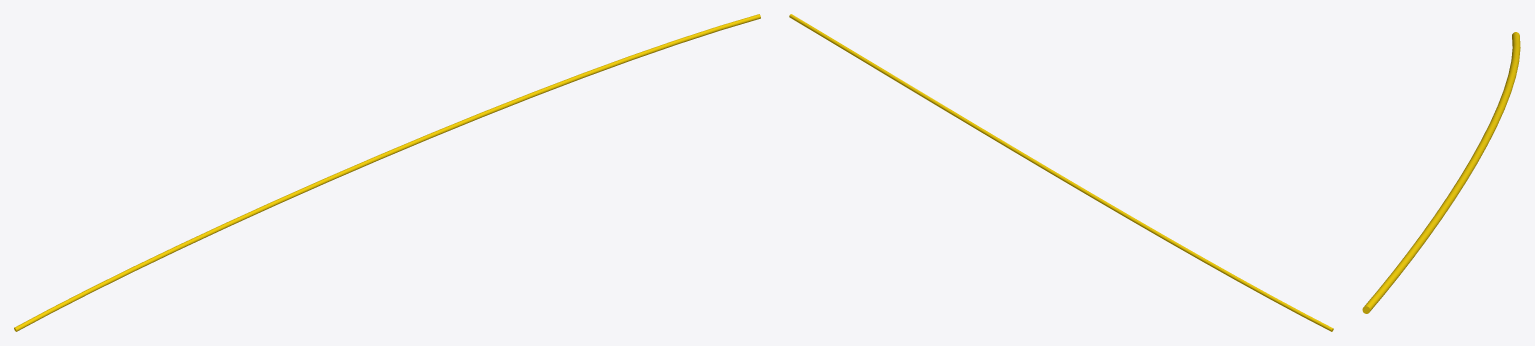
File: Event_420107950_track_77.fbx
3 views of the same model, side by side, from view 1: azimuth 30°, elevation 25°; view 2: azimuth 150°, elevation 25°; view 3: azimuth 270°, elevation 25° (orthographic). The views are drawn at different scales.
Parts seen in each view (by area): view 1: Model; view 2: Model; view 3: Model.
Part boxes in pixels (x1=…): Model: x1=14, y1=14, x2=760, y2=331; Model: x1=789, y1=14, x2=1333, y2=331; Model: x1=1362, y1=32, x2=1520, y2=313.
Size of the model in its own units: 6.75 by 1.66 by 0.7962.
